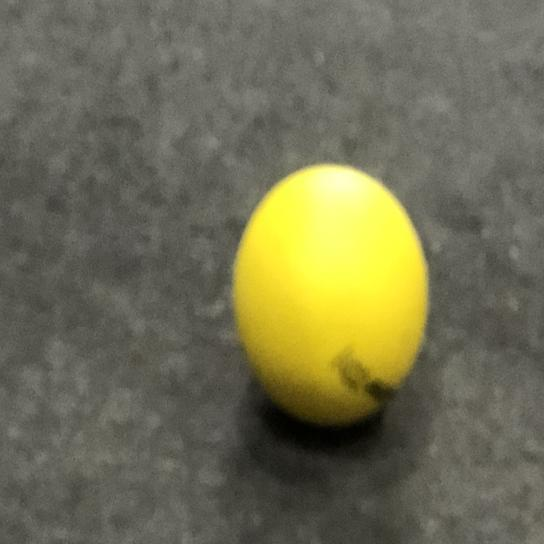ball: (226, 158, 435, 444)
